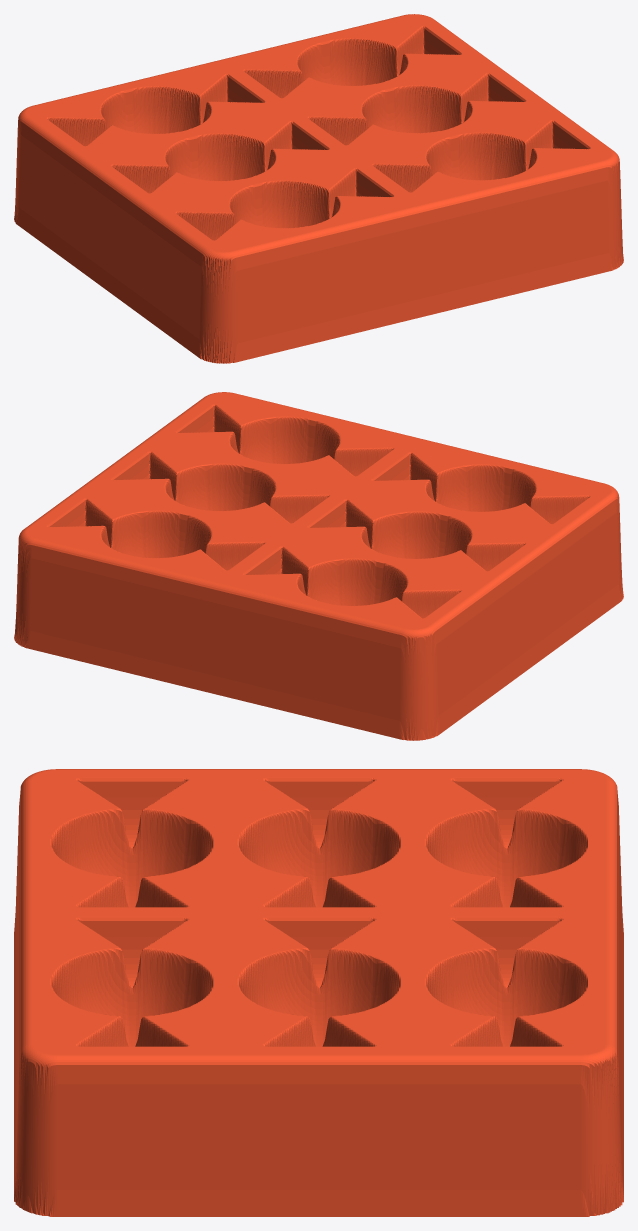
File: mold.glb
3 views of the same model, one above another, from view 1: azimuth 30°, elevation 25°; view 2: azimuth 150°, elevation 25°; view 3: azimuth 270°, elevation 25° (orthographic). The views are drawn at different scales.
Visible parts, largest first — view 1: geometry_0; view 2: geometry_0; view 3: geometry_0.
Boxes of the visible parts, x1,y1,x2,y2 form: geometry_0: (14, 14, 623, 363); geometry_0: (14, 392, 623, 740); geometry_0: (14, 769, 623, 1216).
Size of the model in its own units: 0.1492 by 0.036 by 0.1285.
